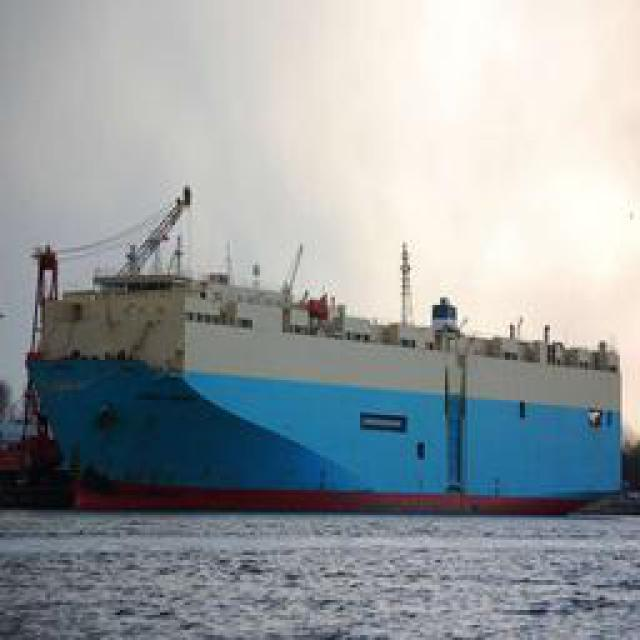Ship: (41, 199, 629, 519)
